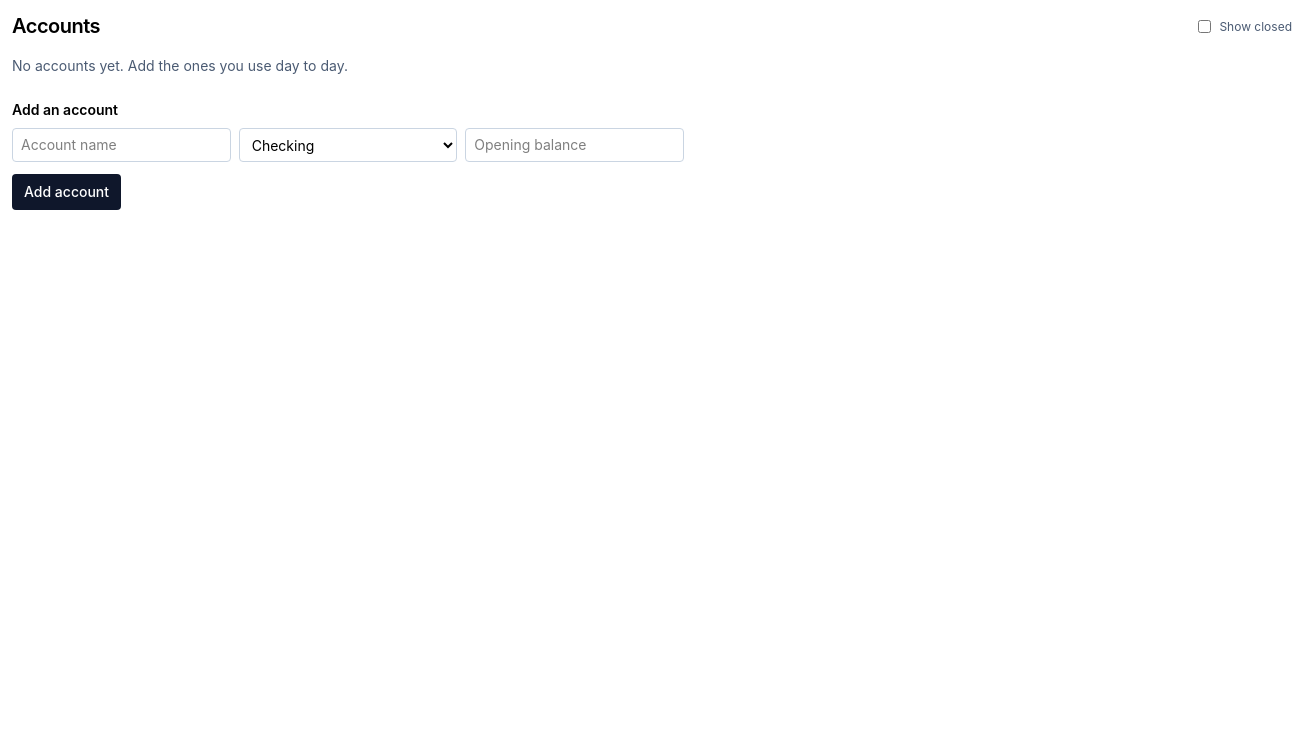
Test: adding an account (repair list #1) › refuses an APR that is not a percent
In the field labelled "Account name": (121, 145) [12, 128, 231, 162], type "Car loan"
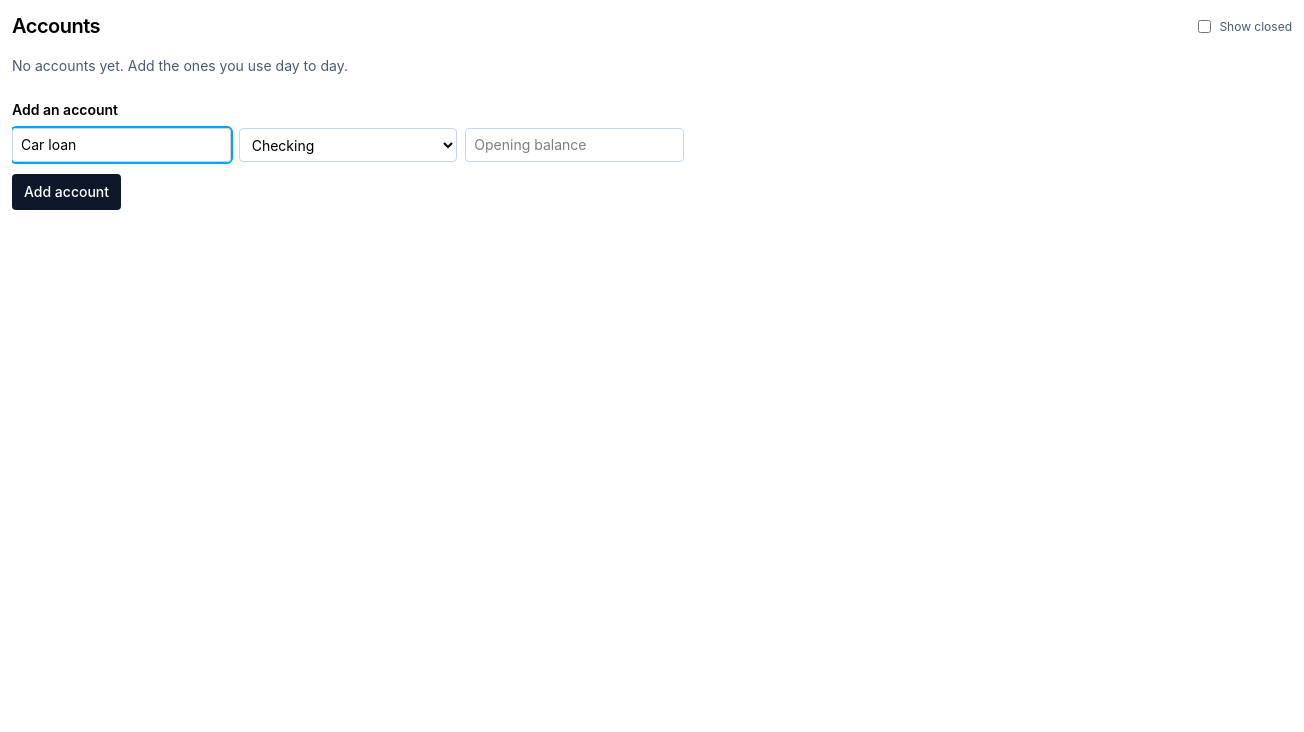
Select "Loan" in the dropdown named "Account type": (348, 145) [239, 128, 457, 162]
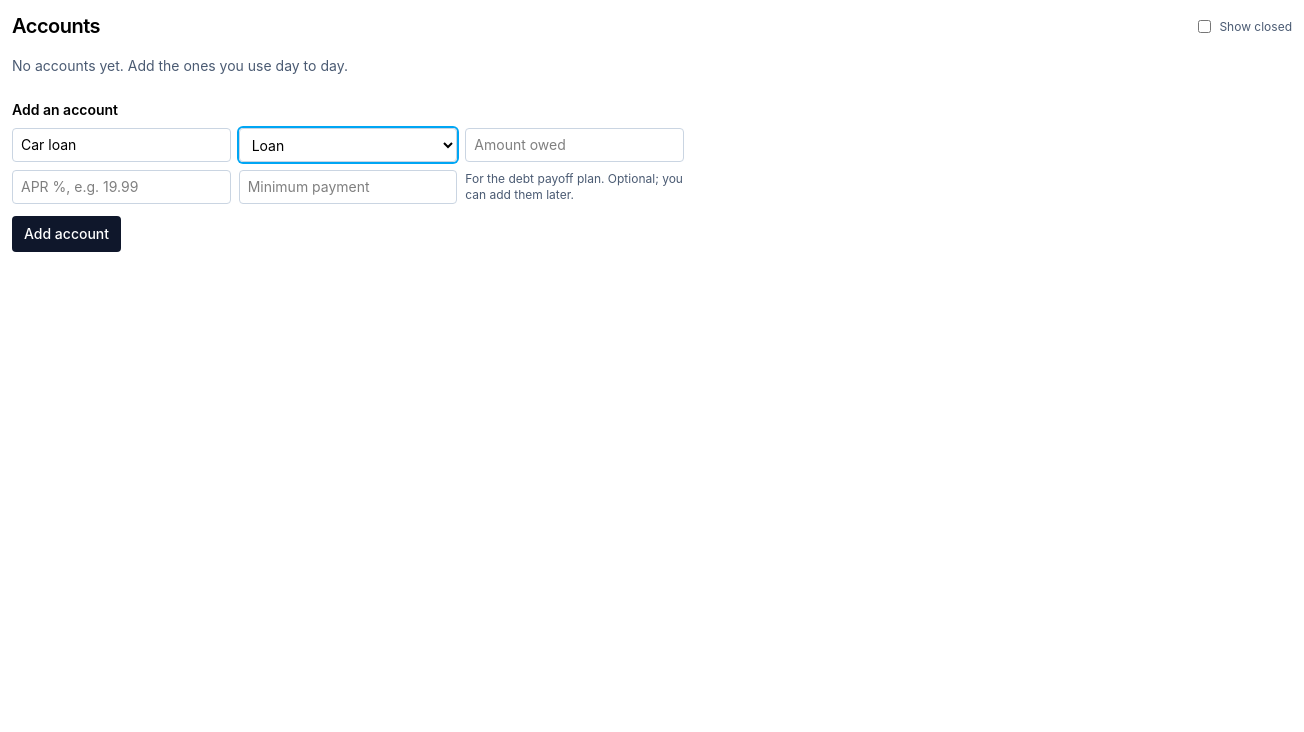
In the field labelled "APR": (121, 187) [12, 170, 231, 204], type "lots"
Then press Enter
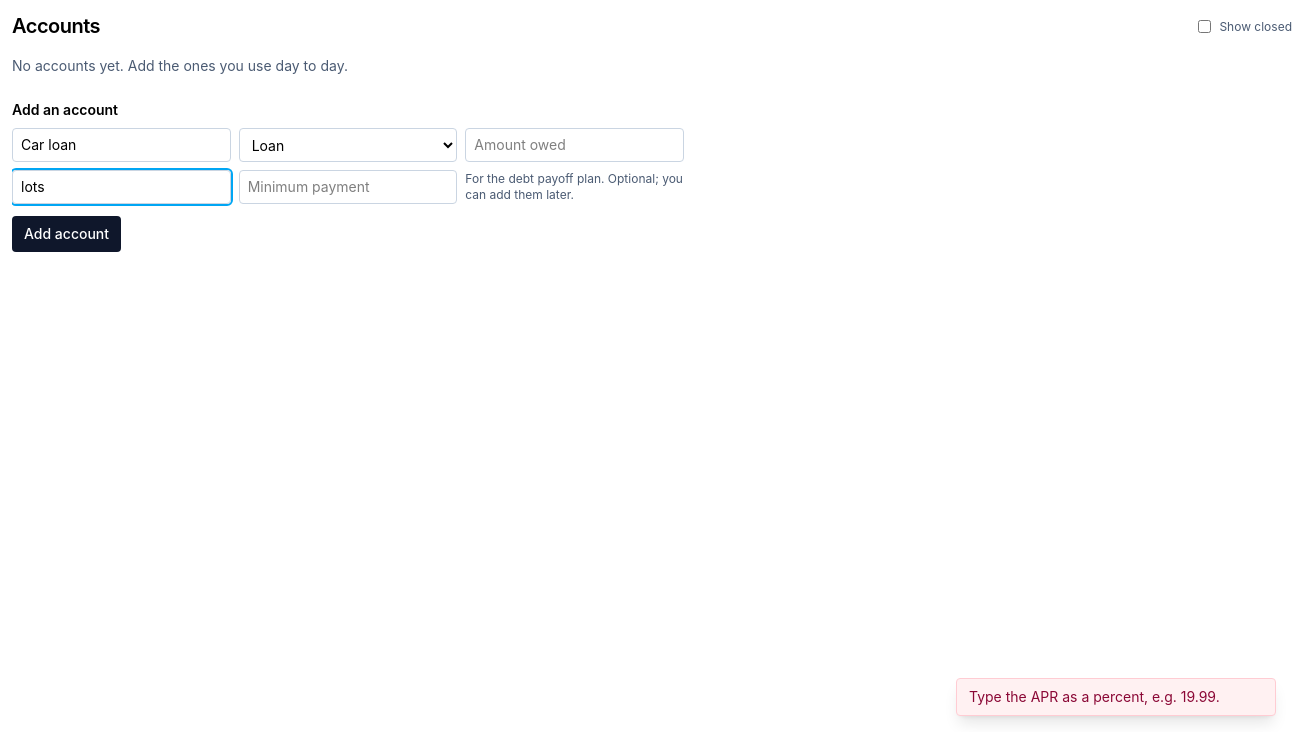
Check: the text "Type the APR as a percent, e.g. 19.99." is shown, box [969, 687, 1220, 707]
